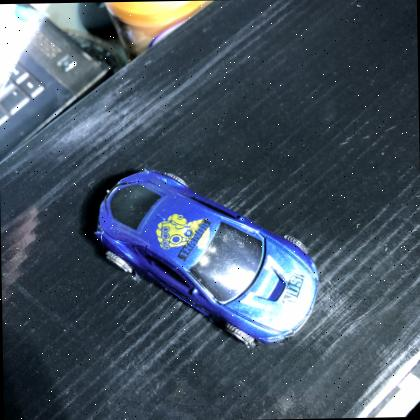Car: (88, 158, 325, 353)
